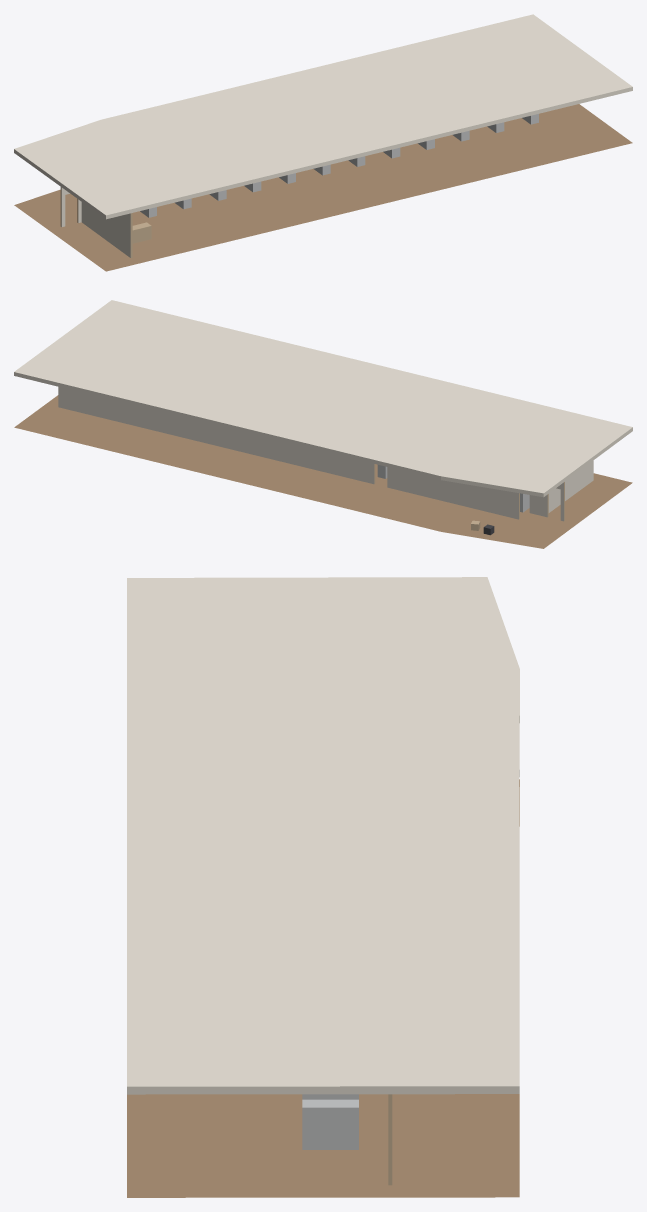
Rendered from interior.glb.
3 views of the same model, one above another, from view 1: azimuth 30°, elevation 25°; view 2: azimuth 150°, elevation 25°; view 3: azimuth 270°, elevation 25° (orthographic). The views are drawn at different scales.
Parts seen in each view (by area): view 1: slabs, coarse-s0, partitions; view 2: slabs, partitions, coarse-s0; view 3: slabs, coarse-s0.
Part boxes in pixels (x1,y1,x2,y2): slabs: (14, 14, 632, 271); coarse-s0: (132, 114, 538, 243); partitions: (60, 187, 132, 257); slabs: (14, 300, 632, 548); partitions: (58, 386, 593, 521); coarse-s0: (377, 465, 529, 535); slabs: (127, 577, 519, 1197); coarse-s0: (302, 1094, 358, 1149).
Bounding box in the file's own units: 36.47 × 3.73 × 11.89.
